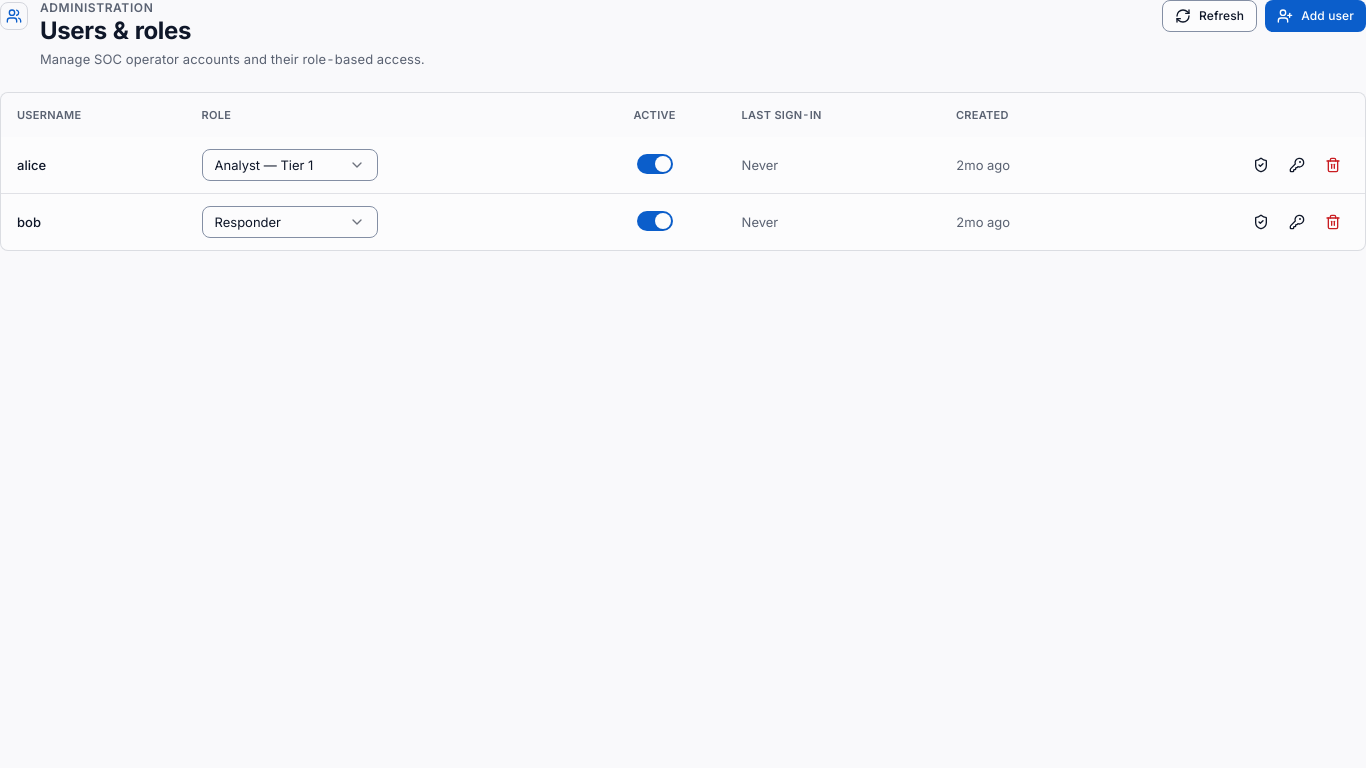
Test: Users admin page › gives the custom-roles chip group an accessible name (#41)
The image size is (1366, 768).
Expected: the text "alice" is shown, [17,156,46,174]
Note: Open the "Manage roles" dialog for alice (present because a custom role exists).
What coordinates should you click on to do the following:
click the button named "manage roles for alice"
I would click on:
 (1261, 165)
Its box is [1245,149,1277,181].
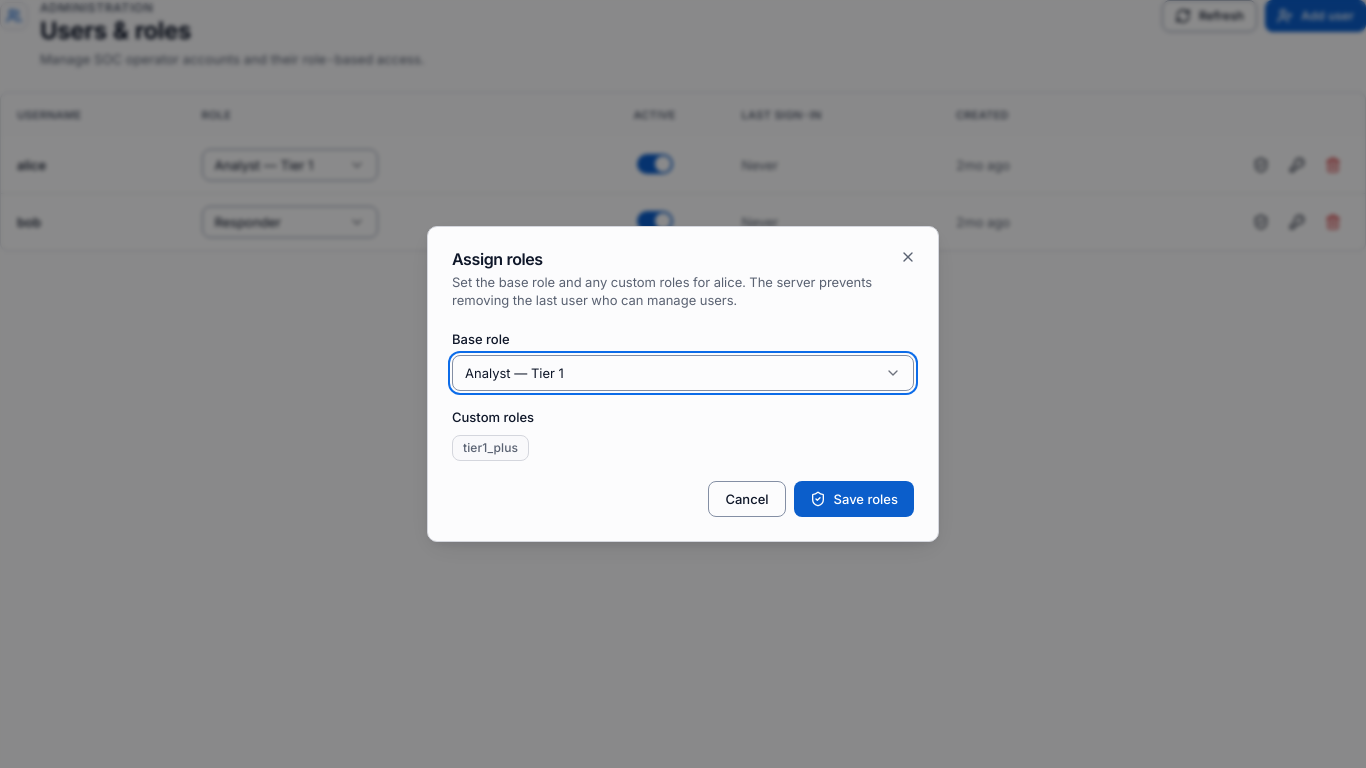
Expected: the element "Custom roles tier1_plus" is shown, [452,409,534,461]
